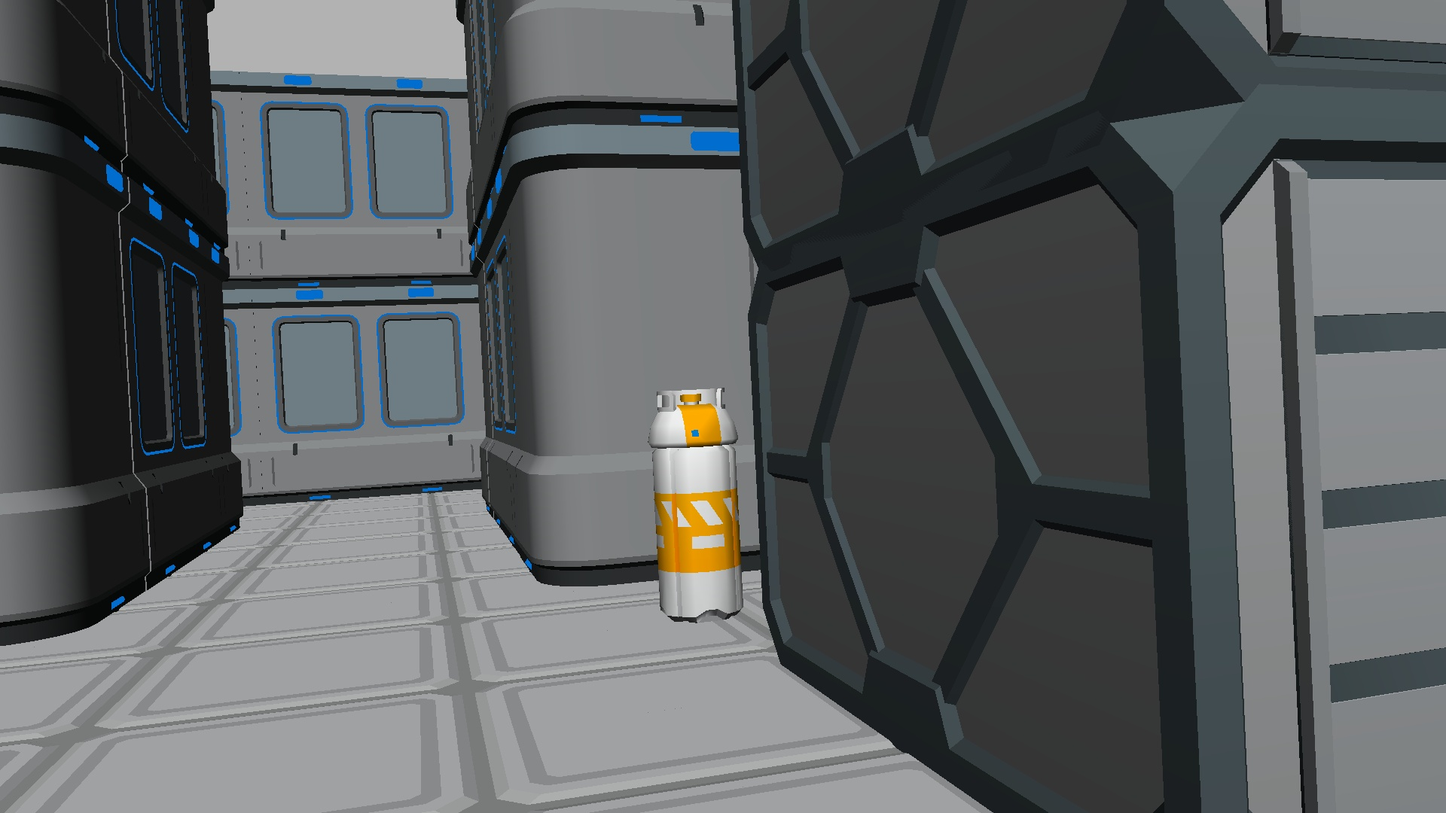yellow barrel: (647, 389, 743, 622)
